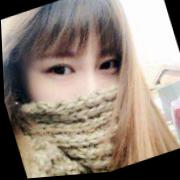WRONG: (9, 15, 148, 168)
